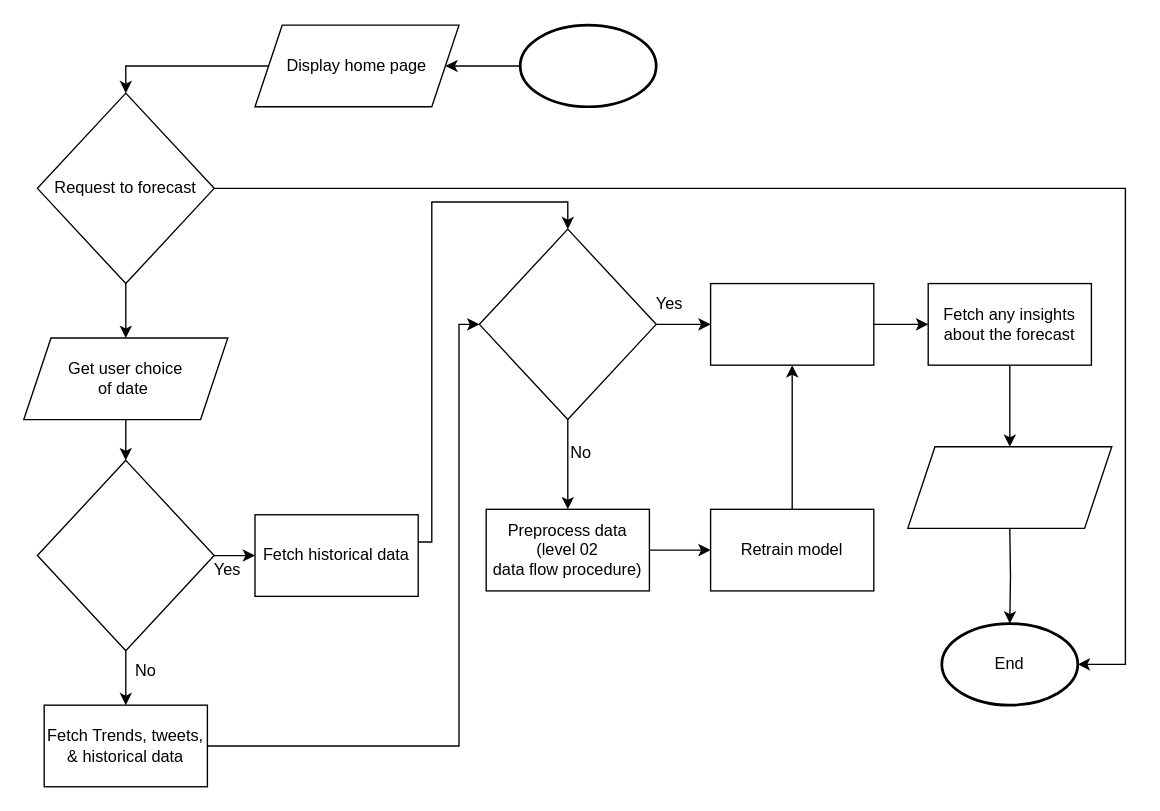
Image size: 1160x811. Some labels were removed from this diagram. The centre of each missing label's shape, as x and y in pixels:
"Begin" belongs at point (587, 65).
"Display insights & forecast" belongs at point (1009, 486).
"Generate forecast & uncertainty estimates" belongs at point (791, 323).
"Is available data up-to-date?" belongs at point (567, 324).
"Is horizon greater than 1?" belongs at point (125, 555).
